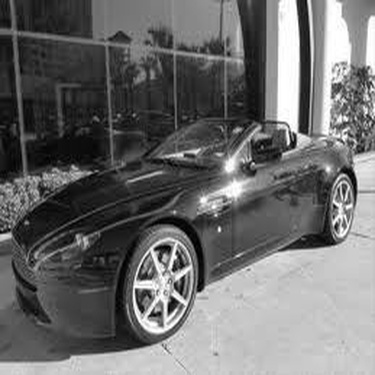car: (1, 111, 364, 355), (46, 112, 151, 181), (127, 104, 182, 143)
